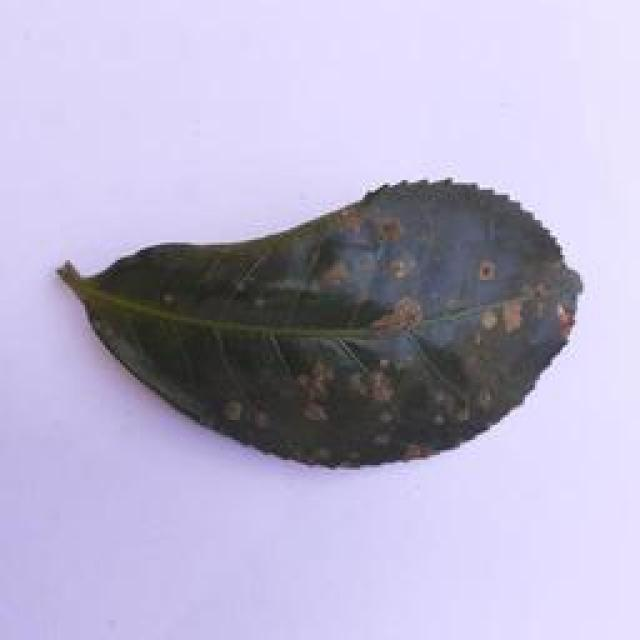Algal Leaf Spot: (47, 158, 587, 487)
